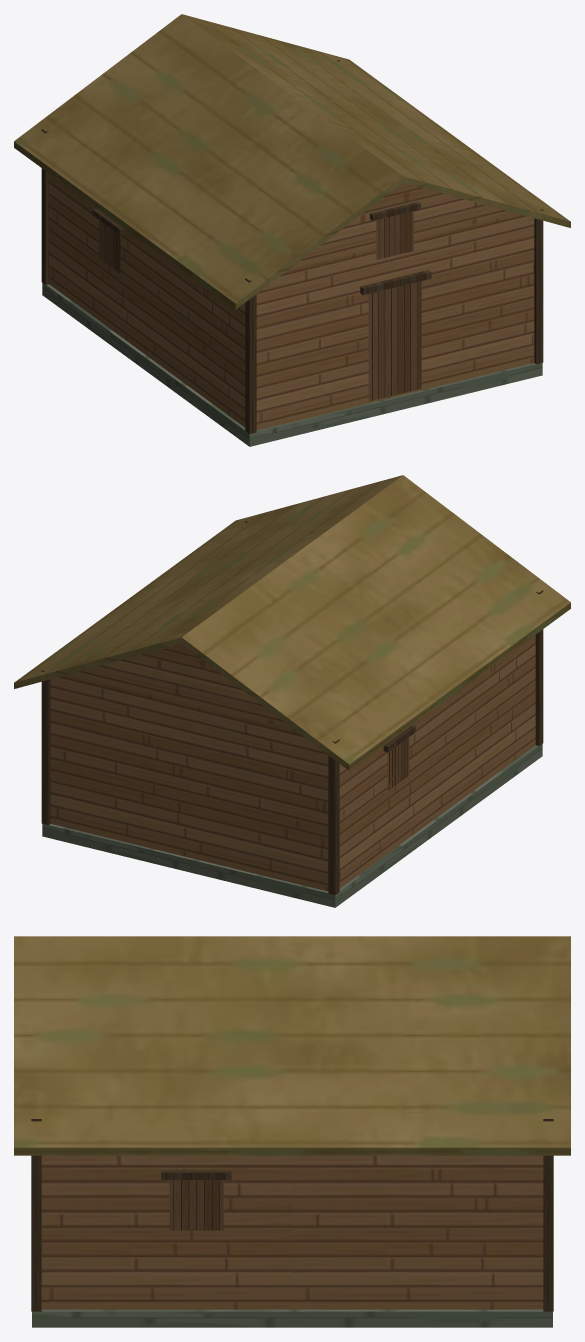
Rendered from ae_jungle_wood_large_barn_lod1.glb.
The picture shows the model from 3 angles, top to bottom: view 1: azimuth 30°, elevation 25°; view 2: azimuth 150°, elevation 25°; view 3: azimuth 270°, elevation 25°; orthographic projection. The views are drawn at different scales.
Parts seen in each view (by area): view 1: ae_jungle_wood_large_barn_lod1; view 2: ae_jungle_wood_large_barn_lod1; view 3: ae_jungle_wood_large_barn_lod1.
Boxes of the visible parts, box(x1,y1,x2,y2) form: ae_jungle_wood_large_barn_lod1: box(14, 14, 570, 446); ae_jungle_wood_large_barn_lod1: box(14, 475, 570, 907); ae_jungle_wood_large_barn_lod1: box(14, 936, 570, 1327).
Size of the model in its own units: 7.6 by 5.2 by 8.7.
1 material, 1 textured.
